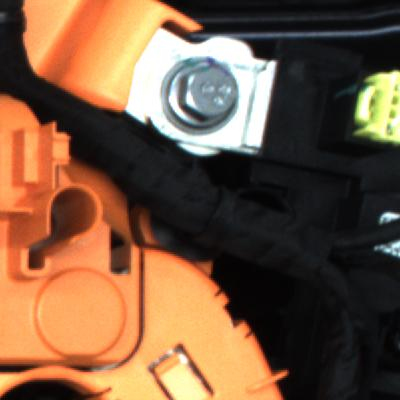nut_b: (149, 48, 255, 132)
